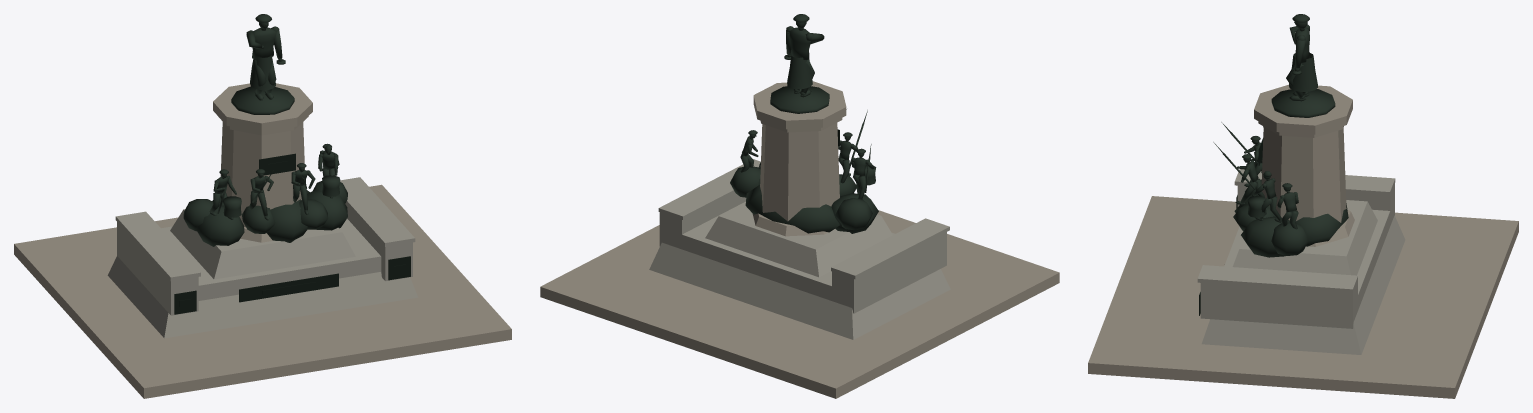
The model's file is totleben.glb.
3 renders of one model, left to right at view 1: azimuth 30°, elevation 25°; view 2: azimuth 150°, elevation 25°; view 3: azimuth 270°, elevation 25°, orthographic. The views are drawn at different scales.
Visible parts, largest first — view 1: totleben_stone, totleben_wall2, totleben_wall3, totleben_metal; view 2: totleben_stone, totleben_wall2, totleben_wall3; view 3: totleben_stone, totleben_wall2, totleben_wall3.
Part boxes in pixels (x1,y1,x2,y2): totleben_stone: (14, 83, 511, 398); totleben_wall2: (107, 177, 418, 338); totleben_wall3: (183, 14, 347, 246); totleben_metal: (174, 153, 410, 314); totleben_stone: (540, 81, 1059, 398); totleben_wall2: (649, 159, 950, 339); totleben_wall3: (730, 14, 878, 233); totleben_stone: (1088, 84, 1518, 398); totleben_wall2: (1197, 169, 1405, 354); totleben_wall3: (1213, 14, 1348, 257).
Size of the model in its own units: 15.89 by 11.09 by 15.07.
